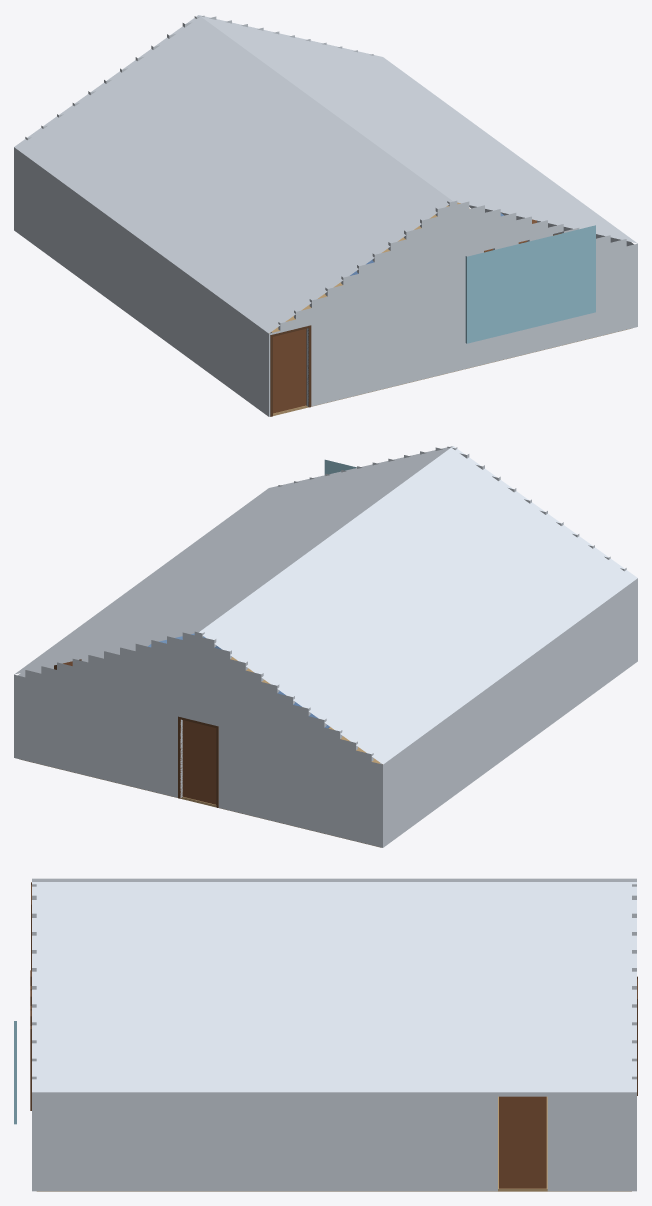
Rendered from room_bed_b.glb.
3 renders of one model, top to bottom at view 1: azimuth 30°, elevation 25°; view 2: azimuth 150°, elevation 25°; view 3: azimuth 270°, elevation 25°, orthographic. The views are drawn at different scales.
Parts seen in each view (by area): view 1: CEILING, WALLS, VIEW_window_N, DOOR_stairs_down, FRAMES; view 2: CEILING, WALLS, DOOR_study, FRAMES; view 3: CEILING, WALLS, DOOR_corridor, FLOOR_visible, FRAMES.
Part boxes in pixels (x1,y1,x2,y2): CEILING: [14, 15, 637, 333]; WALLS: [14, 15, 637, 416]; VIEW_window_N: [465, 225, 595, 343]; DOOR_stairs_down: [273, 329, 306, 413]; FRAMES: [270, 233, 561, 416]; CEILING: [14, 446, 637, 764]; WALLS: [14, 446, 637, 847]; DOOR_study: [183, 720, 216, 804]; FRAMES: [54, 659, 218, 807]; CEILING: [32, 878, 636, 1092]; WALLS: [32, 884, 636, 1191]; DOOR_corridor: [499, 1096, 546, 1188]; FLOOR_visible: [37, 1187, 631, 1191]; FRAMES: [30, 882, 637, 1110].
Size of the model in its own units: 10.2 by 4.56 by 12.58.
